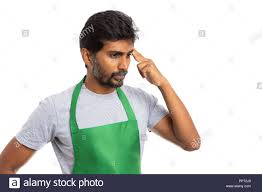Indian_Male: (83, 27, 133, 91)
